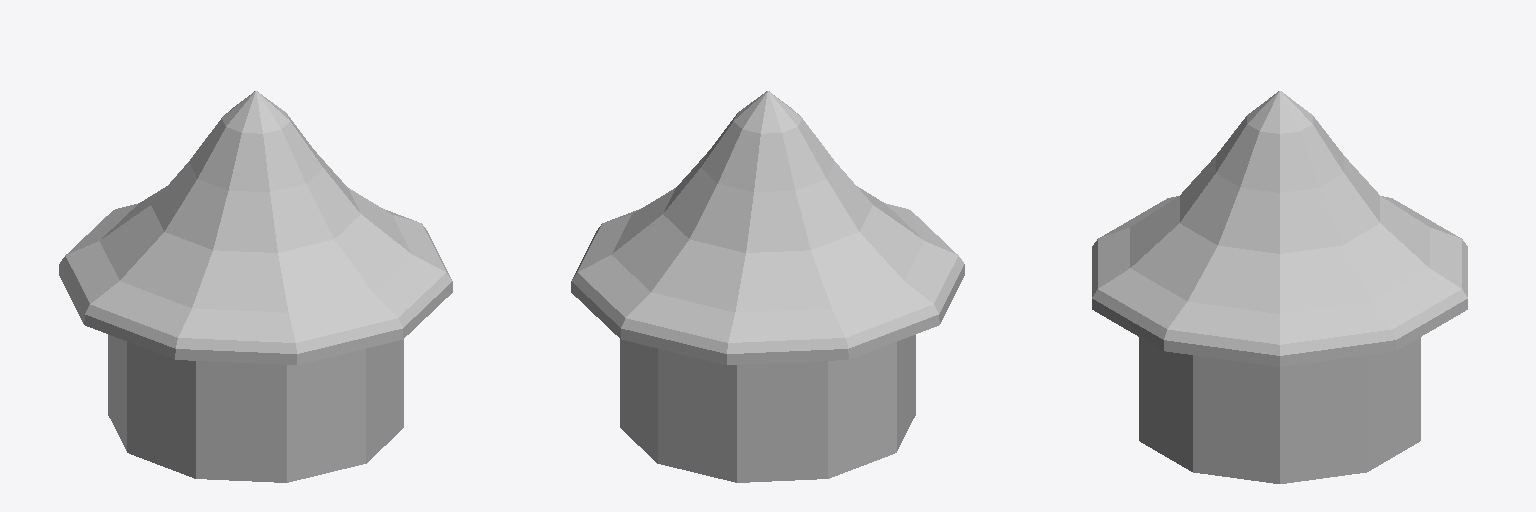
File: Case03.obj
3 renders of one model, left to right at view 1: azimuth 30°, elevation 25°; view 2: azimuth 150°, elevation 25°; view 3: azimuth 270°, elevation 25°, orthographic.
Parts seen in each view (by area): view 1: Case03; view 2: Case03; view 3: Case03.
Part boxes in pixels (bbox=[...]): Case03: bbox=[59, 91, 452, 482]; Case03: bbox=[571, 91, 964, 482]; Case03: bbox=[1092, 91, 1467, 483].
Bounding box in the file's own units: 9.81 × 9.04 × 9.33.